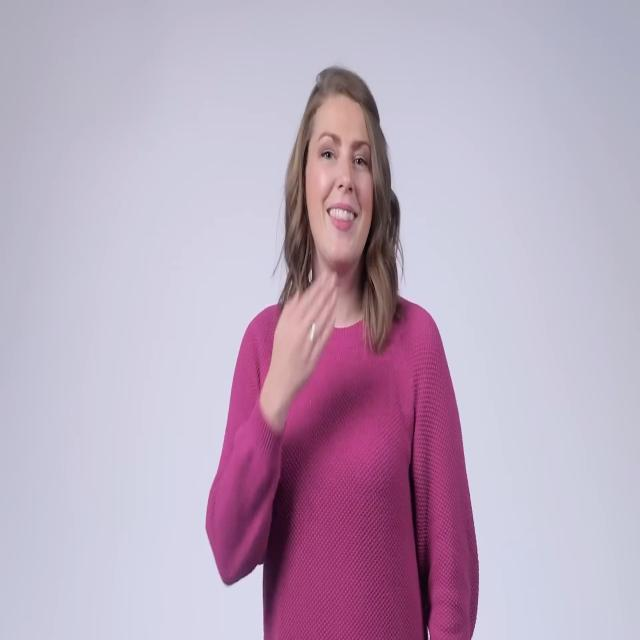thank-you: (245, 242, 365, 428)
